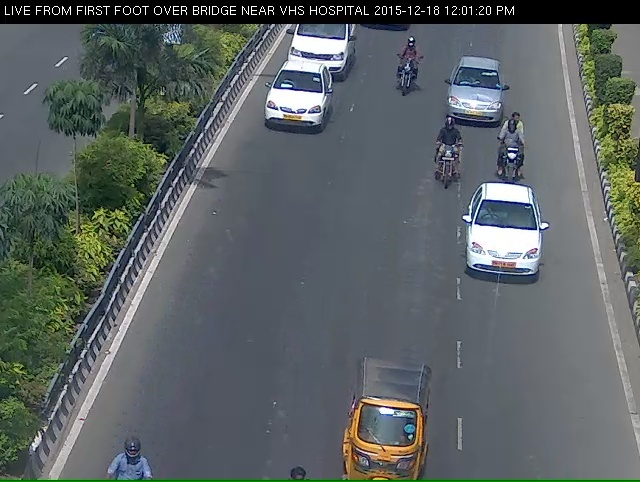Car: (331, 381, 427, 477), (464, 201, 540, 302), (258, 73, 321, 140), (279, 23, 349, 81), (444, 61, 500, 129)
Person: (426, 123, 464, 199), (496, 119, 527, 191), (385, 43, 417, 107)
